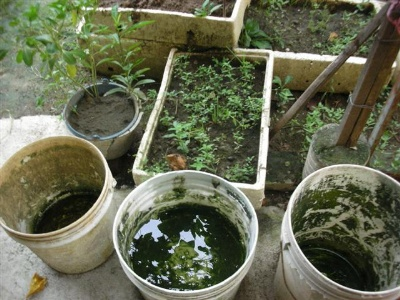bucket: (112, 170, 259, 300), (274, 163, 400, 300), (1, 136, 117, 274)
styrofoam: (132, 45, 274, 210), (81, 1, 251, 49)
